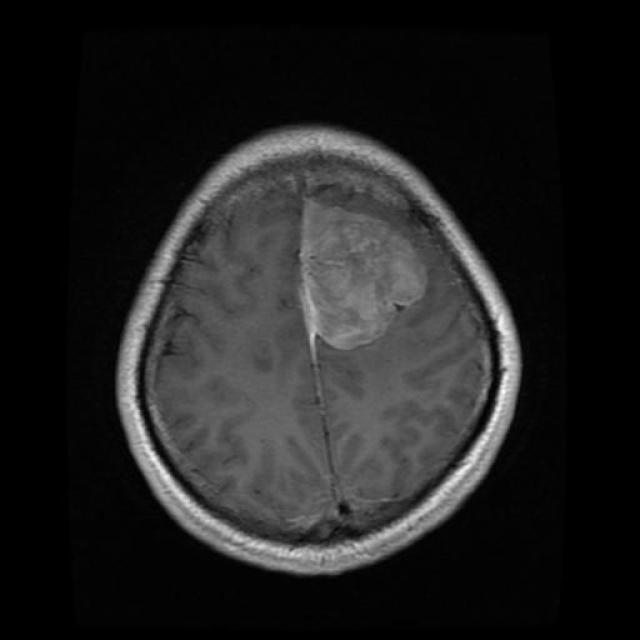meningioma: (301, 199, 429, 351)
